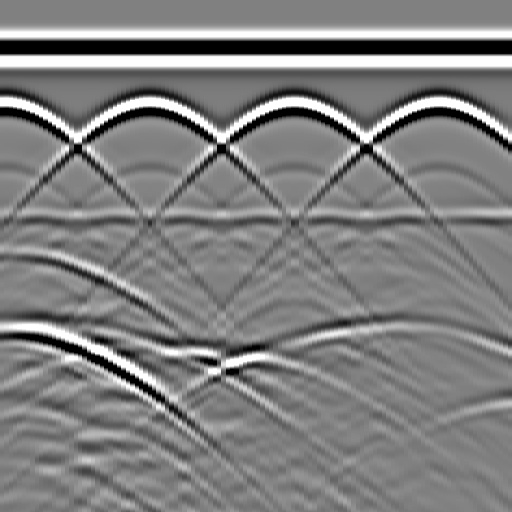grout_surface: (1, 203, 512, 233)
rebar: (127, 86, 167, 126), (271, 86, 311, 126), (416, 86, 456, 126)
rock_surface: (1, 323, 511, 402)
